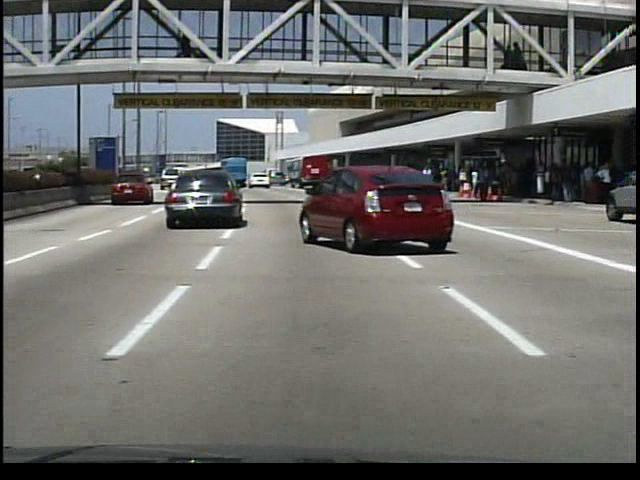person: (477, 162, 493, 204), (178, 31, 194, 62)
